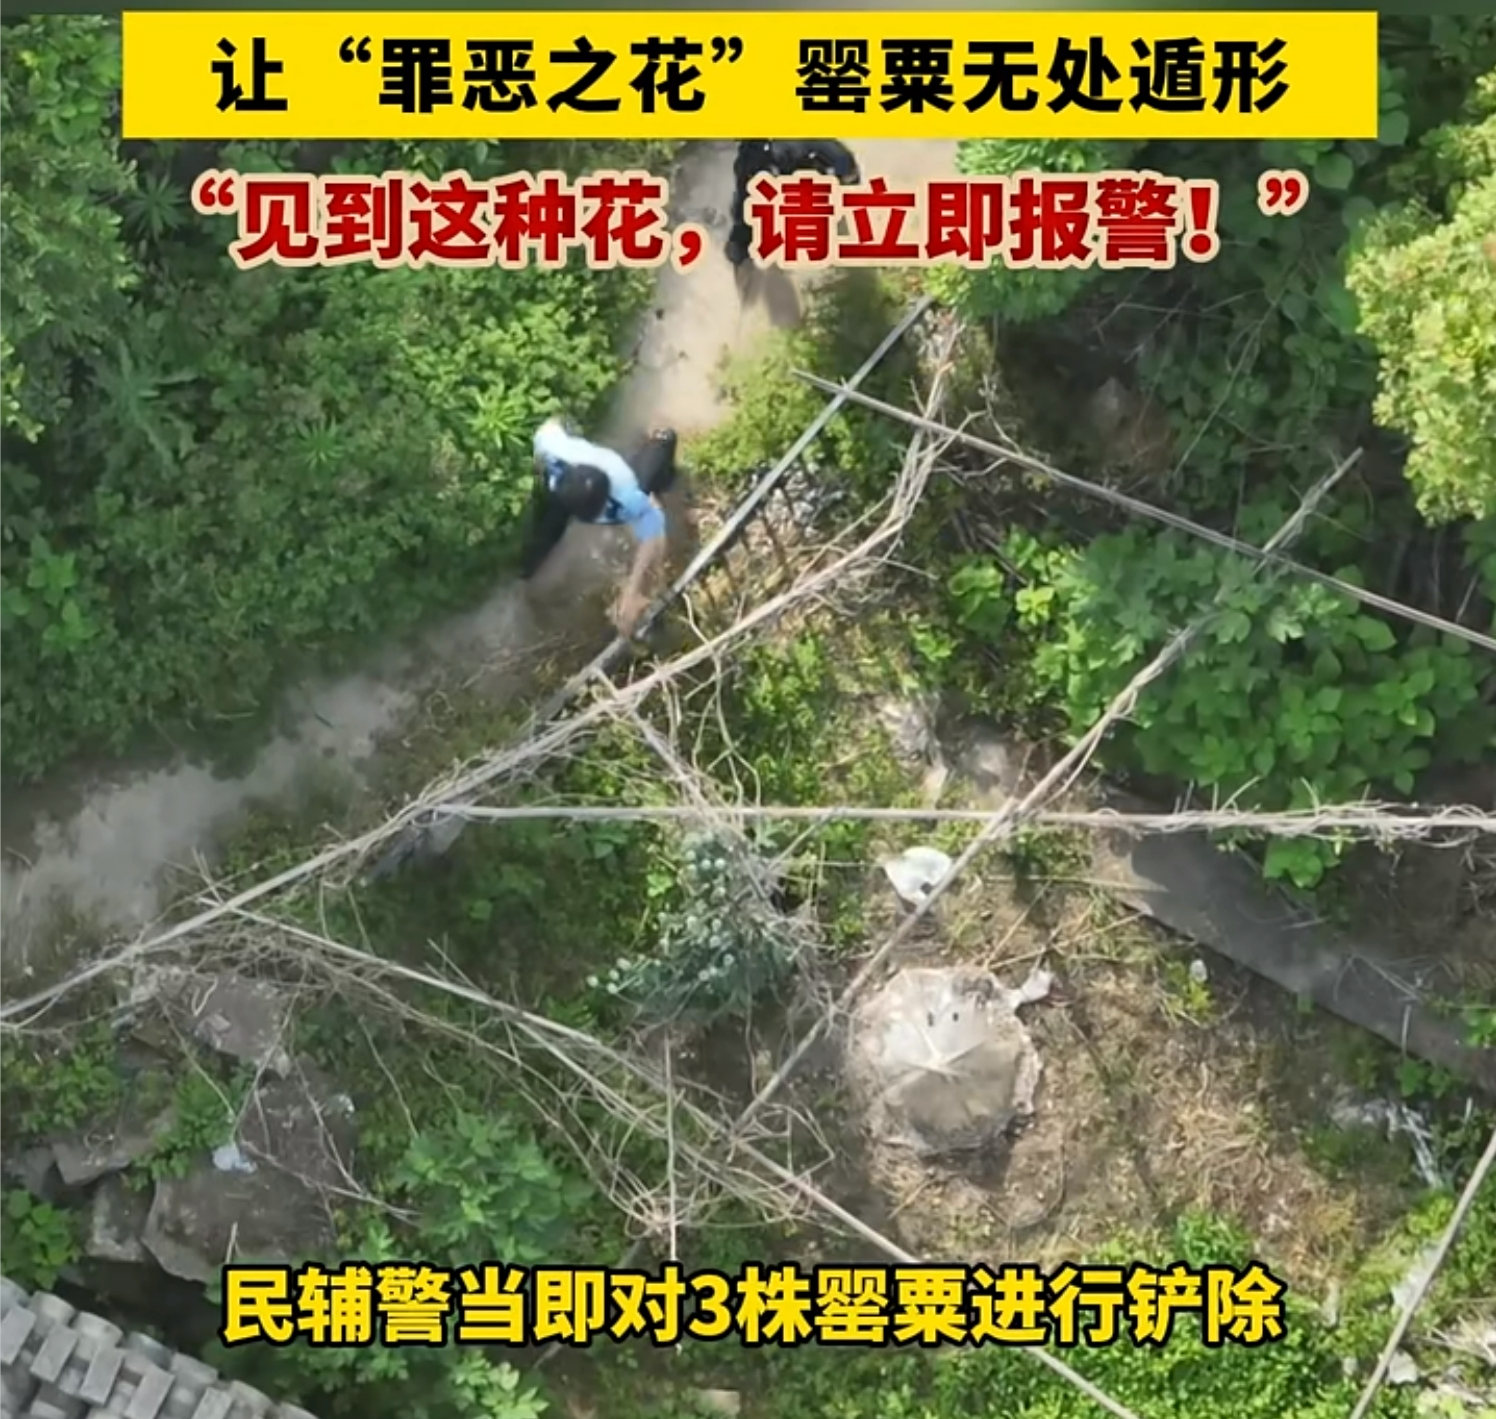Poppy: (589, 810, 808, 1036)
